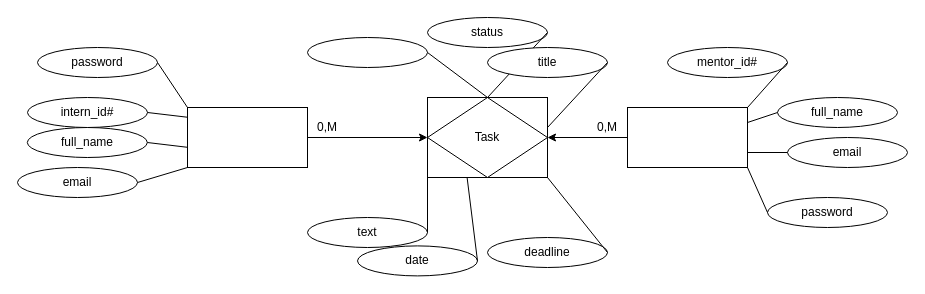
The diagram is 925 pixels wide and 294 high, and some of its shapes have lost their labels. Each missing label, with the centre of its shape:
Intern: [247,137]
Mentor: [687,137]
task_id#: [367,52]
